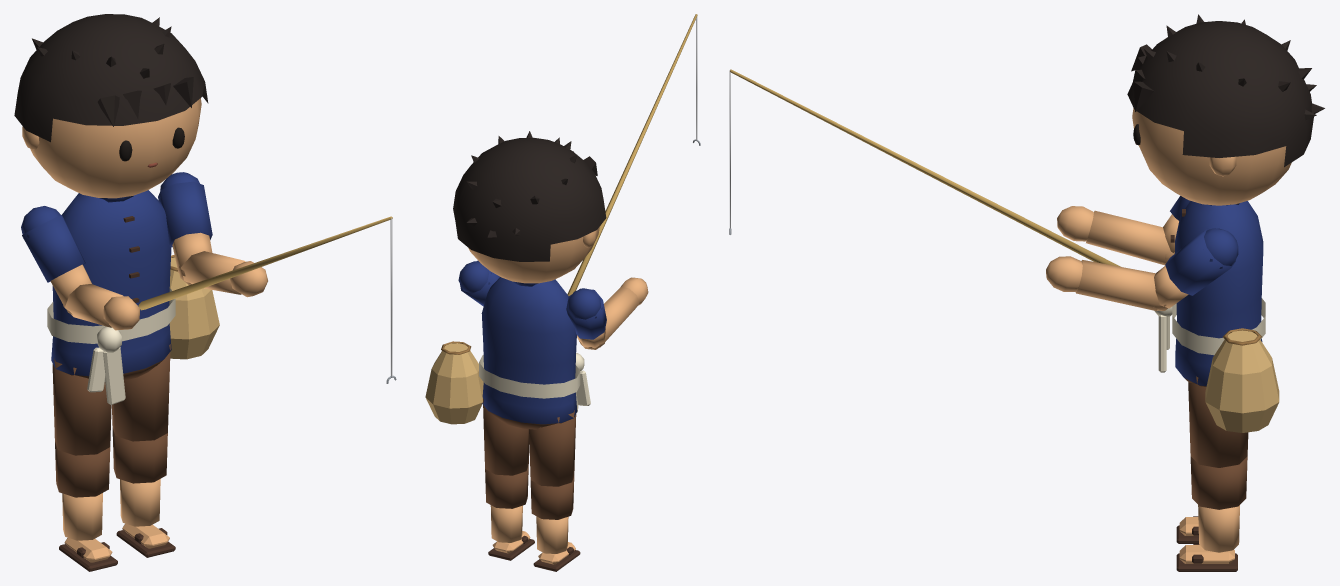
Rendered from west_rod_fisher.glb.
3 renders of one model, left to right at view 1: azimuth 30°, elevation 25°; view 2: azimuth 150°, elevation 25°; view 3: azimuth 270°, elevation 25°, orthographic. The views are drawn at different scales.
Visible parts, largest first — view 1: head, body, shin_L, shin_R, leg_R, arm_R, arm_L, leg_L, prop_creel, forearm_R, forearm_L, prop_fishing_rod; view 2: head, body, prop_creel, shin_R, shin_L, leg_R, leg_L, arm_R, prop_fishing_rod, forearm_R, arm_L; view 3: head, body, prop_creel, shin_L, arm_L, forearm_L, forearm_R, leg_L, prop_fishing_rod.
Boxes of the visible parts, box(x1,y1,x2,y2) form: head: box(14, 14, 208, 198); body: box(47, 190, 175, 404); shin_L: box(112, 428, 175, 557); shin_R: box(55, 442, 117, 571); leg_R: box(52, 358, 111, 455); arm_R: box(21, 206, 91, 314); arm_L: box(158, 172, 212, 285); leg_L: box(112, 344, 170, 441); prop_creel: box(169, 255, 219, 359); forearm_R: box(63, 284, 139, 330); forearm_L: box(179, 251, 267, 297); prop_fishing_rod: box(138, 216, 396, 383); head: box(453, 131, 606, 283); body: box(479, 277, 590, 429); prop_creel: box(425, 341, 483, 424); shin_R: box(530, 476, 580, 571); shin_L: box(485, 465, 534, 560); leg_R: box(529, 410, 576, 486); leg_L: box(483, 399, 529, 475); arm_R: box(566, 288, 606, 349); prop_fishing_rod: box(567, 14, 700, 295); forearm_R: box(579, 277, 648, 349); arm_L: box(458, 260, 499, 306); head: box(1127, 14, 1324, 205); body: box(1154, 201, 1265, 386); prop_creel: box(1205, 328, 1279, 432); shin_L: box(1176, 456, 1247, 571); arm_L: box(1153, 228, 1238, 310); forearm_L: box(1046, 256, 1166, 310); forearm_R: box(1057, 206, 1174, 265); leg_L: box(1188, 376, 1248, 467); prop_fishing_rod: box(729, 69, 1120, 266).
Bounding box in the file's own units: 0.6045 × 1.48 × 1.53.
